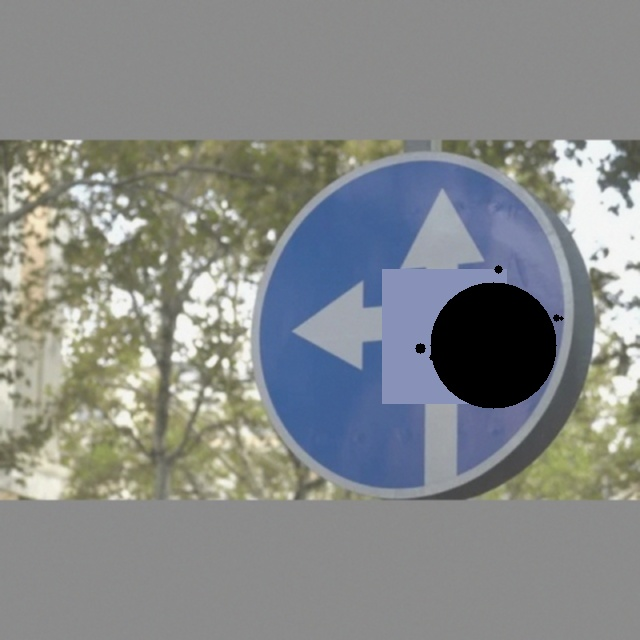Compulsory_Ahead_or_Turn_Left: (254, 154, 594, 490)
